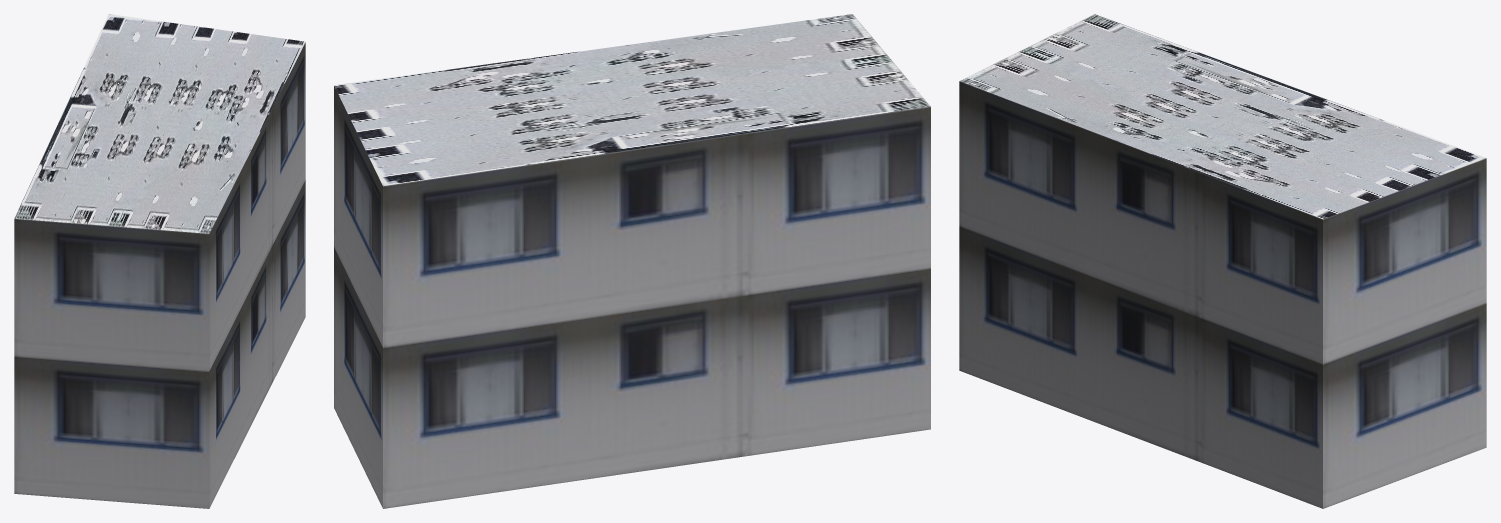
The model's file is ResTex__54.fbx.
3 renders of one model, left to right at view 1: azimuth 30°, elevation 25°; view 2: azimuth 150°, elevation 25°; view 3: azimuth 270°, elevation 25°, orthographic. The views are drawn at different scales.
Visible parts, largest first — view 1: CityEngineMaterial_9_m, CityEngineMaterial_m; view 2: CityEngineMaterial_9_m, CityEngineMaterial_m; view 3: CityEngineMaterial_9_m, CityEngineMaterial_m.
Part boxes in pixels (bbox=[...]): CityEngineMaterial_9_m: bbox=[14, 42, 305, 508]; CityEngineMaterial_m: bbox=[14, 14, 305, 233]; CityEngineMaterial_9_m: bbox=[334, 86, 930, 508]; CityEngineMaterial_m: bbox=[334, 14, 930, 185]; CityEngineMaterial_9_m: bbox=[959, 81, 1486, 508]; CityEngineMaterial_m: bbox=[959, 14, 1486, 219].
Bounding box in the file's own units: 9.13 × 6 × 9.9.
Materials: 2 (2 with a texture image).
